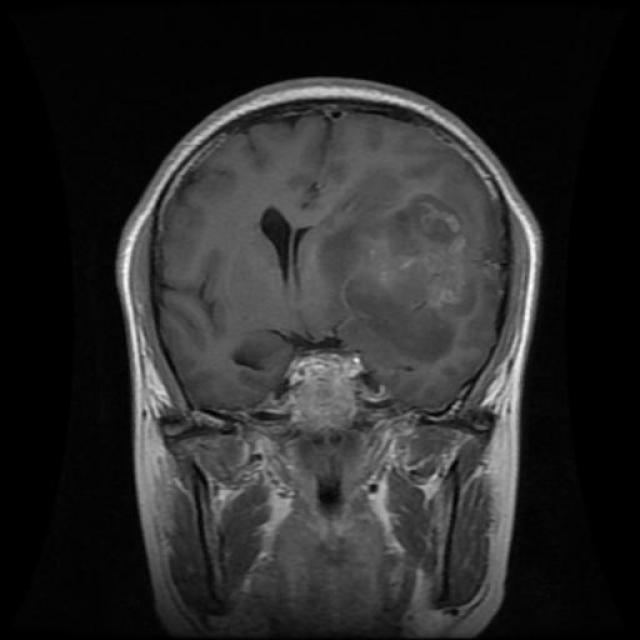glioma: (258, 201, 316, 279)
